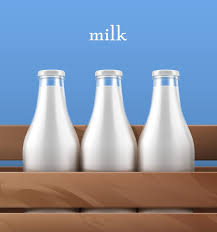milk: (17, 63, 76, 170), (147, 61, 197, 183), (88, 63, 133, 175)
